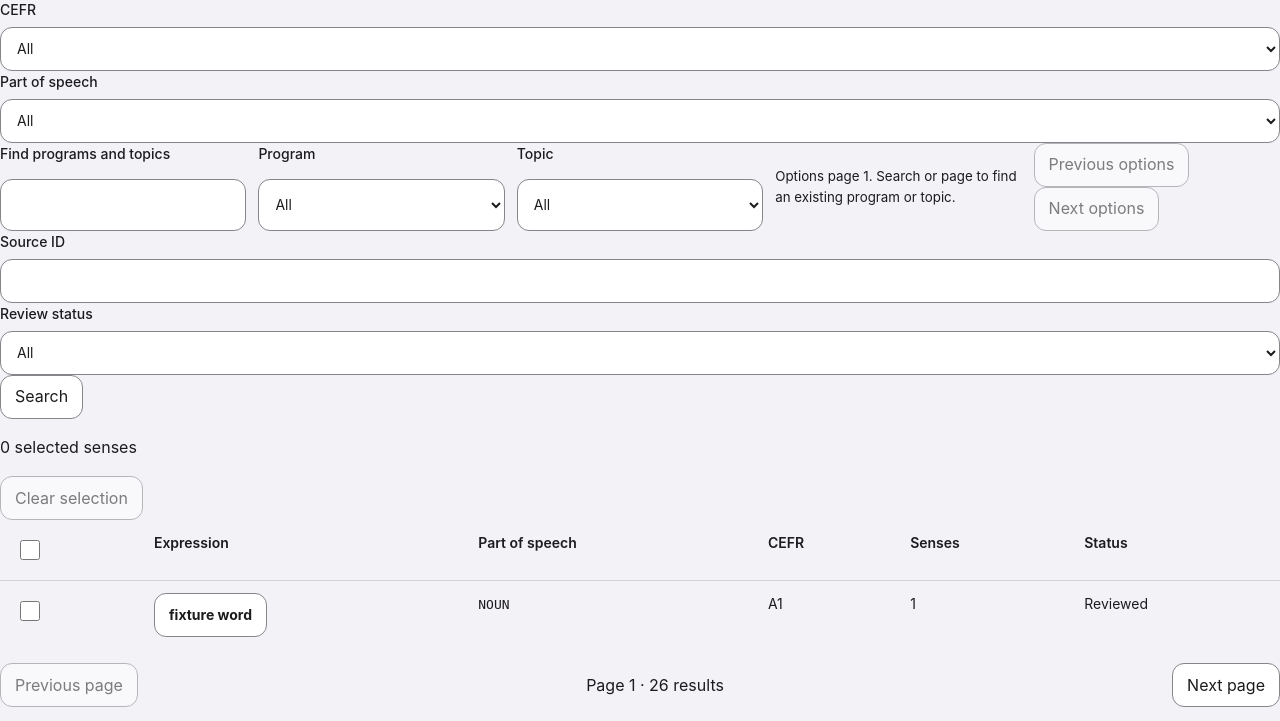
Test: vocabulary workspace › shows truthful TXT entry provenance and attribution in en
(page scrolled)
What coordinates should you click on to do the following:
click the button "fixture word"
I would click on:
 (210, 615)
Its box is [154,593,267,637].
(page scrolled)
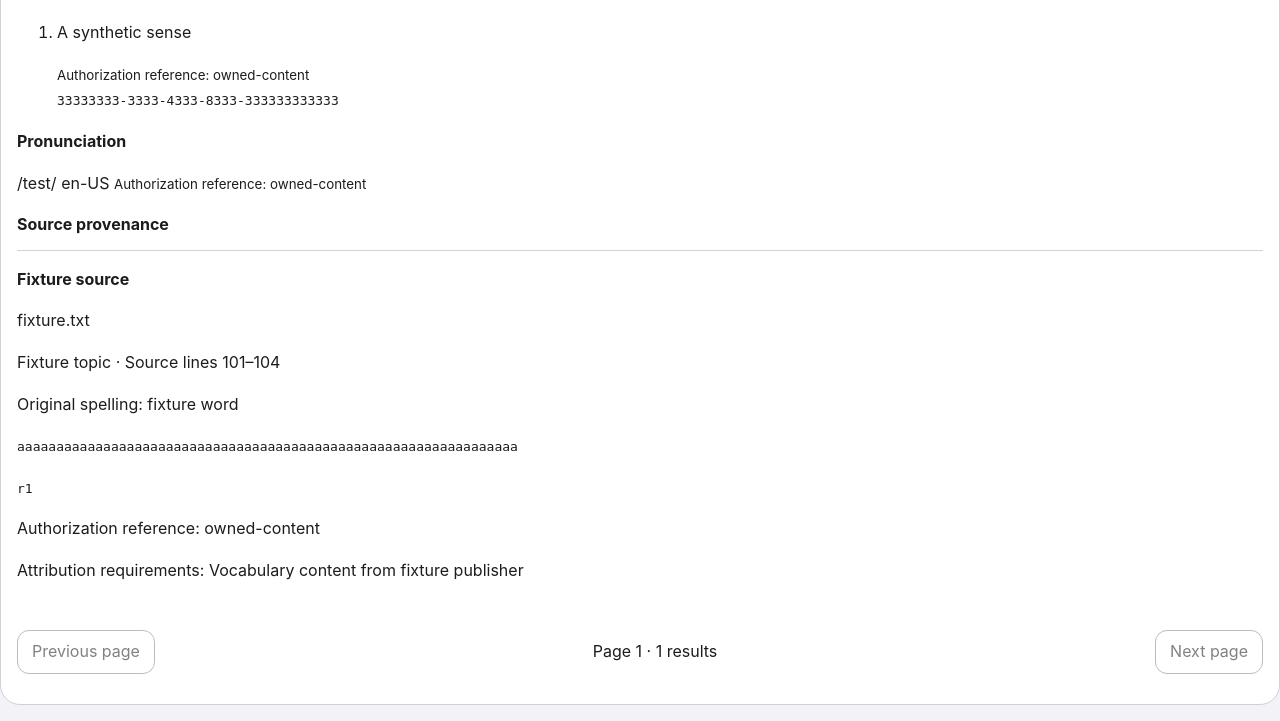
Expected: the text "Source lines 101–104" is shown, [125,352,280,372]
Expected: the element "Source provenance" shows "Vocabulary content from fixture publisher", [209,560,524,580]
